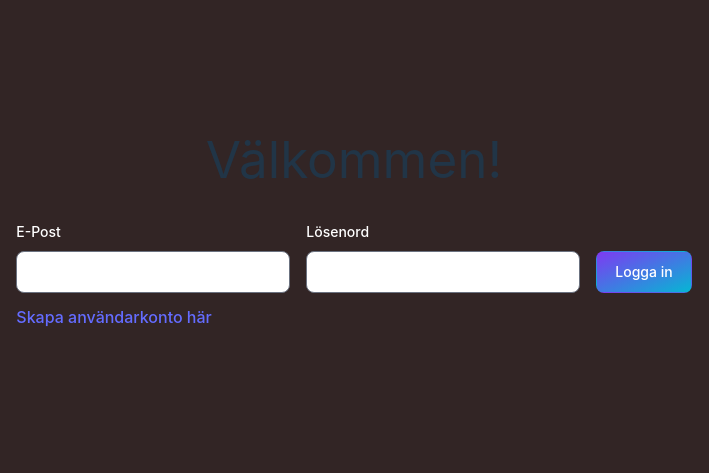
register › Ska misslyckas när ingen email är ifylld
The image size is (709, 473).
Step 1. Click the link with test id "register" → (114, 317), box [16,307,211,327]
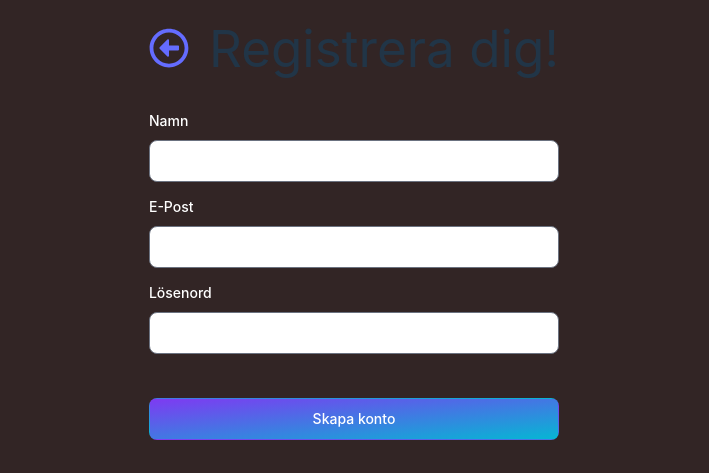
Step 2. Type "testuser" into the field with test id "name" → (354, 161), box [149,140,559,182]
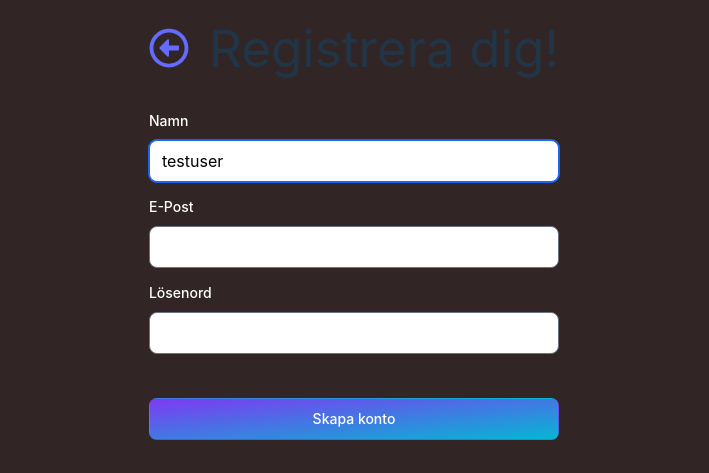
Step 3. Type "testuser123" into the password field with test id "password" → (354, 333), box [149,312,559,354]
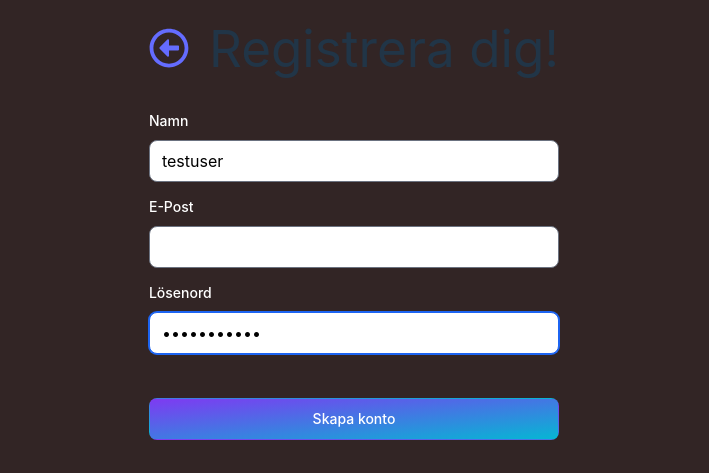
Step 4. Click the button with test id "registerSubmit" → (354, 419), box [149,398,559,440]
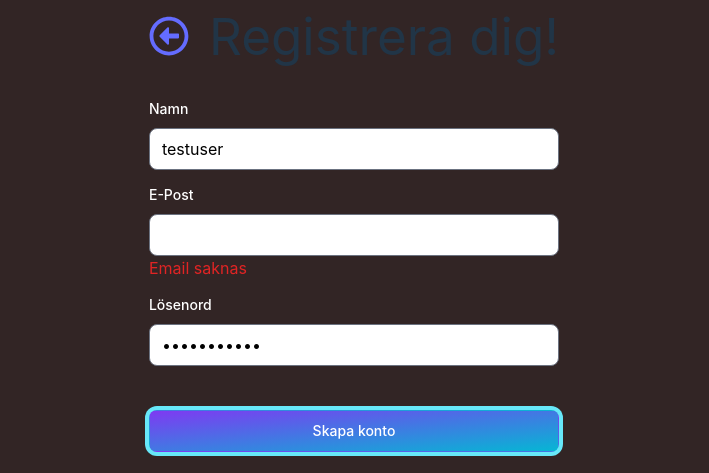
Expected: the text "Email saknas" is shown, [149,258,247,278]
